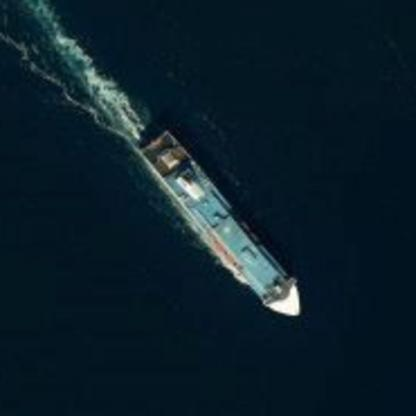ship: (117, 113, 310, 327)
